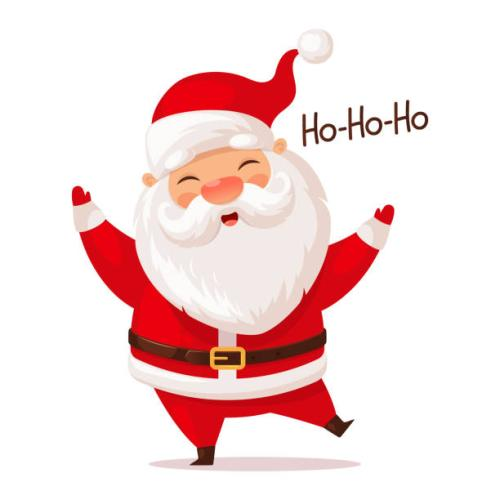Santa: (64, 24, 431, 478)
